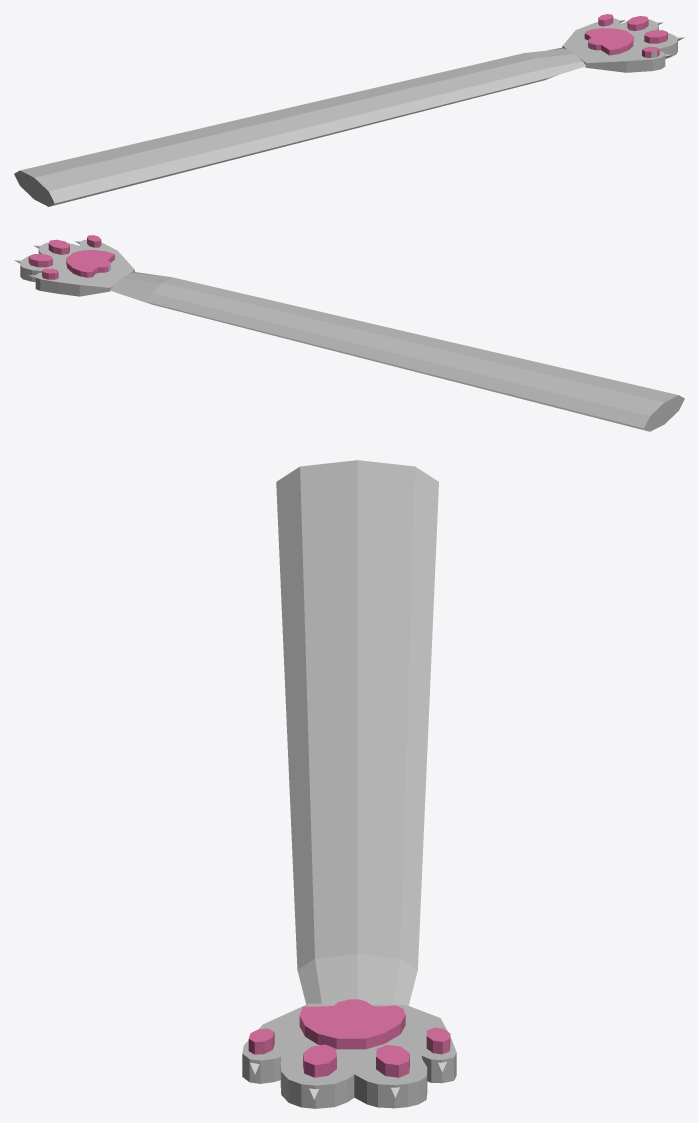
Rendered from lapka6.fbx.
3 renders of one model, top to bottom at view 1: azimuth 30°, elevation 25°; view 2: azimuth 150°, elevation 25°; view 3: azimuth 270°, elevation 25°, orthographic. The views are drawn at different scales.
Parts seen in each view (by area): view 1: Circle.020; view 2: Circle.020; view 3: Circle.020.
Boxes of the visible parts, x1,y1,x2,y2 form: Circle.020: [14, 14, 684, 206]; Circle.020: [14, 235, 684, 431]; Circle.020: [242, 460, 456, 1108].
Bounding box in the file's own units: 159 × 5.53 × 23.03.
